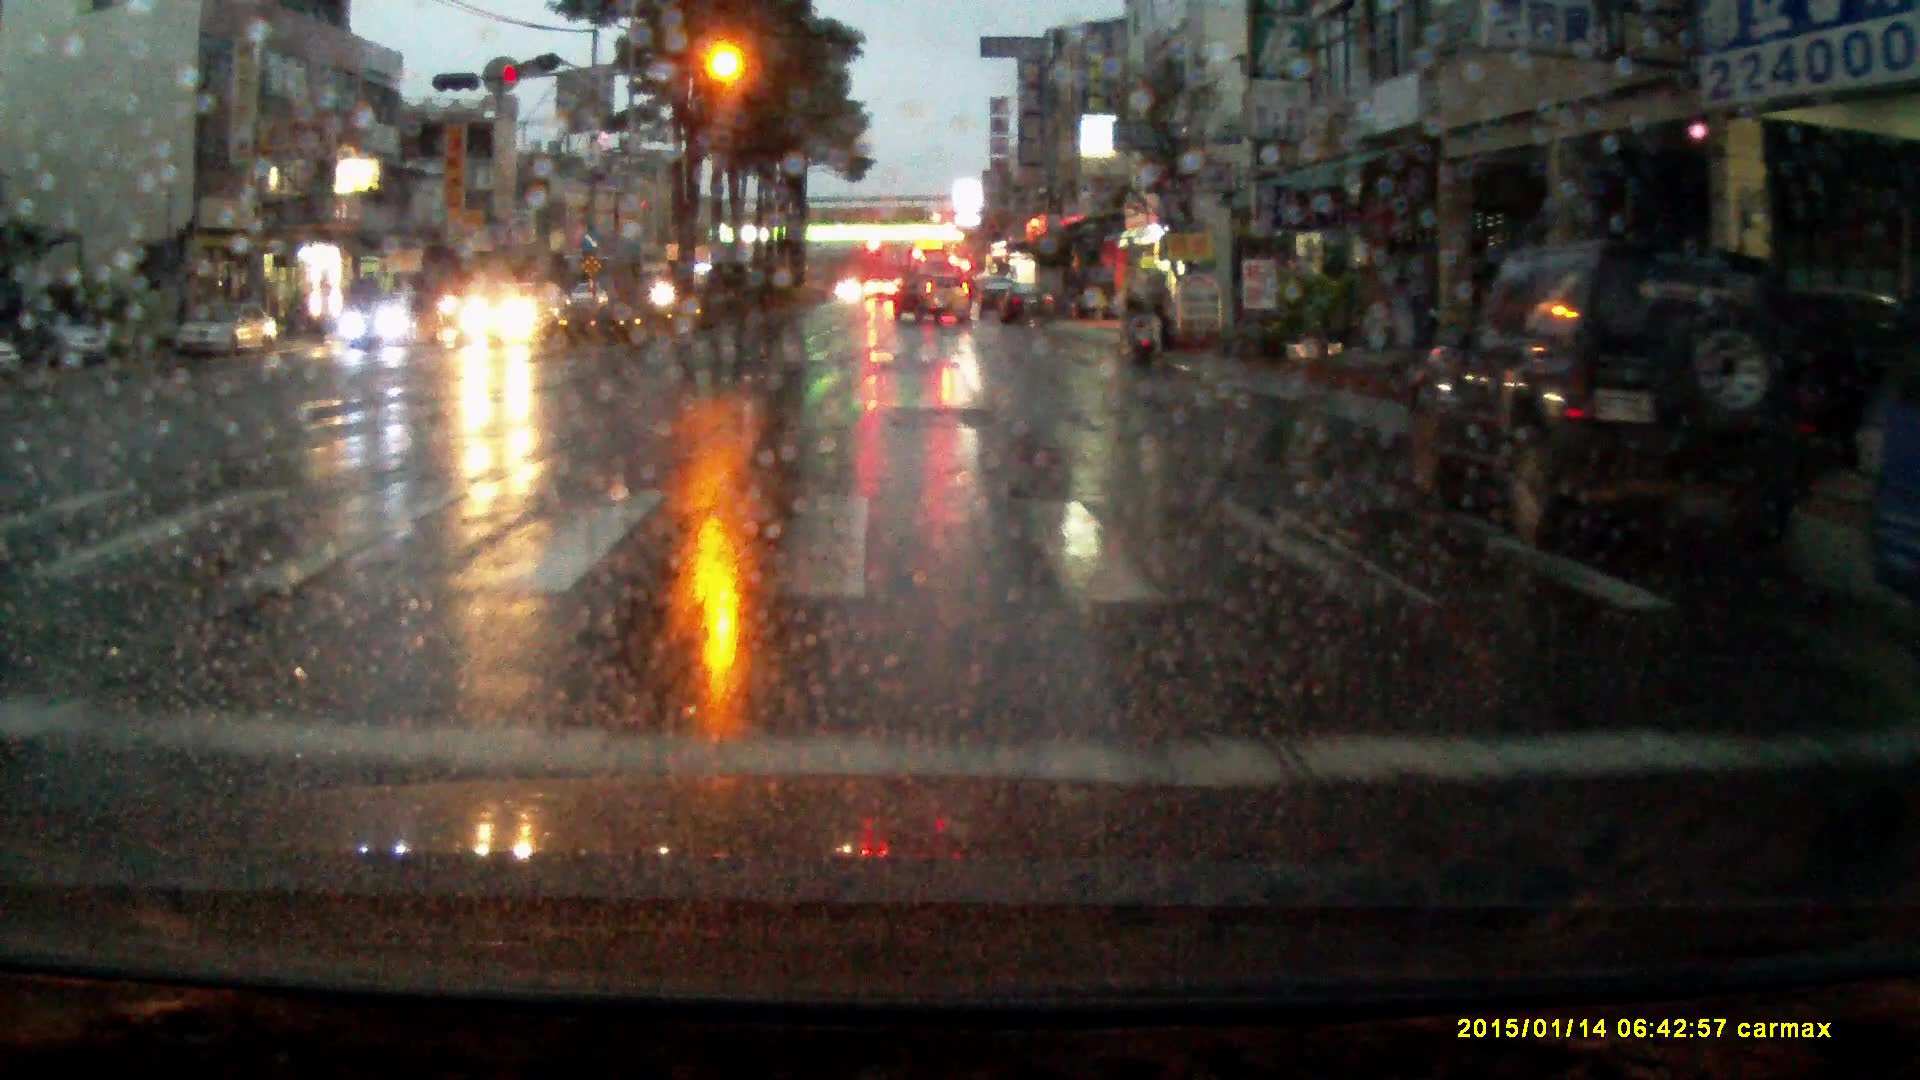vehicle: (1408, 241, 1830, 530), (463, 277, 564, 345), (175, 295, 284, 359), (343, 290, 444, 352), (33, 305, 109, 371), (893, 270, 971, 324), (907, 247, 949, 310), (997, 284, 1056, 324), (977, 273, 1010, 316), (571, 281, 611, 313), (864, 277, 899, 303)
